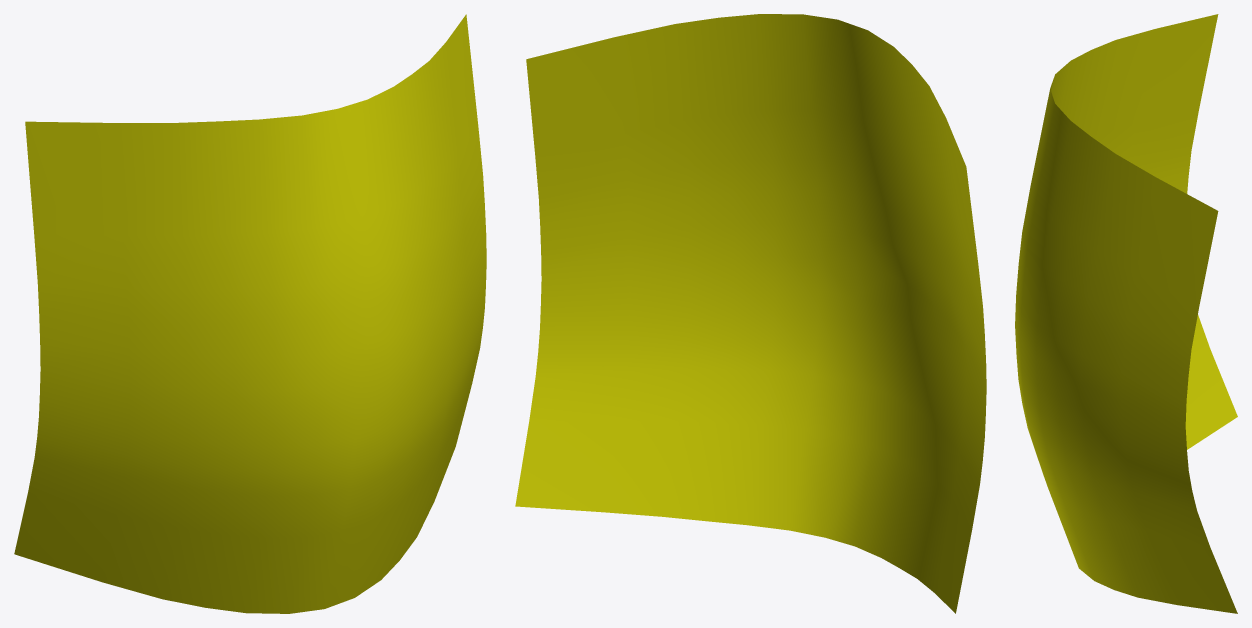
File: Mask_7.glb
The picture shows the model from 3 angles, left to right: view 1: azimuth 30°, elevation 25°; view 2: azimuth 150°, elevation 25°; view 3: azimuth 270°, elevation 25°; orthographic projection. The views are drawn at different scales.
Size of the model in its own units: 91.85 by 100 by 43.45.
